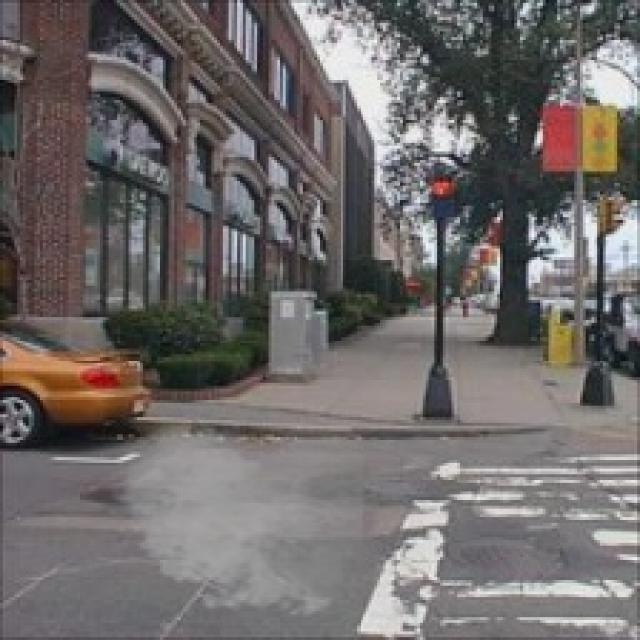Smoke: (103, 417, 363, 623)
